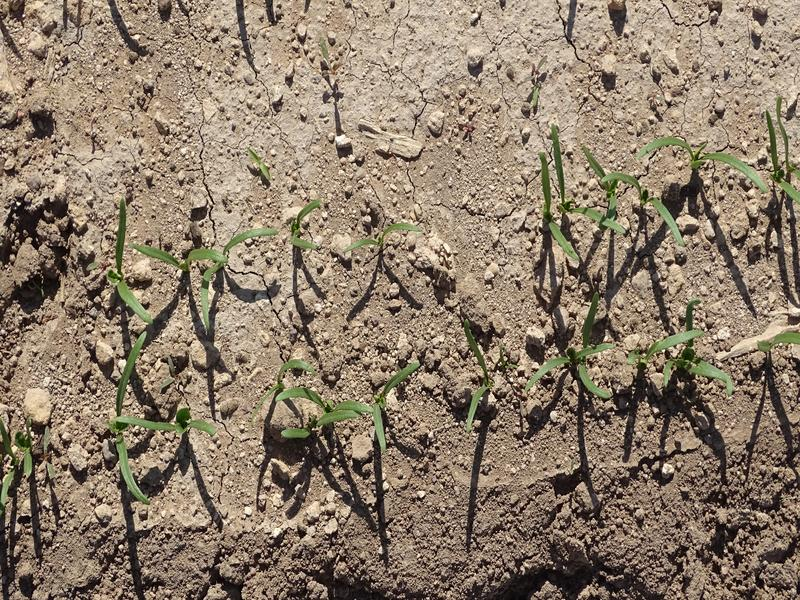Espinaca: (524, 118, 800, 264), (103, 198, 266, 334), (519, 322, 740, 406), (257, 357, 425, 462), (116, 333, 143, 505), (348, 212, 420, 263), (457, 336, 492, 427), (1, 444, 38, 499), (292, 199, 326, 253), (144, 415, 215, 437)
